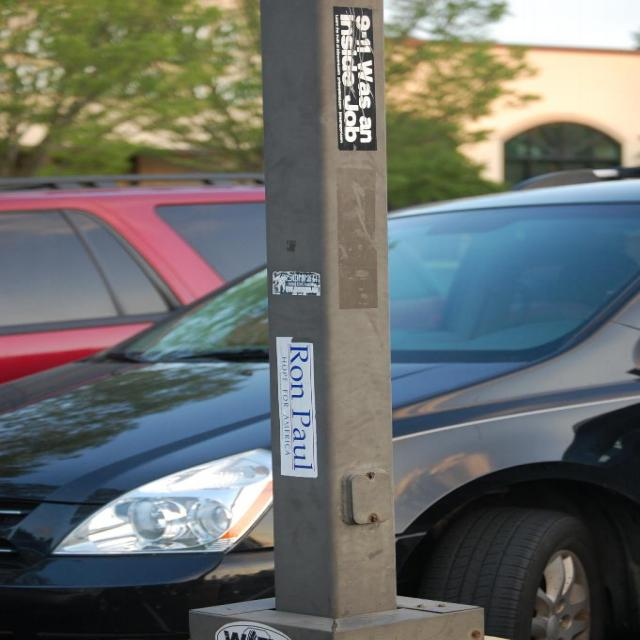other: (0, 177, 639, 639), (0, 172, 447, 384)
